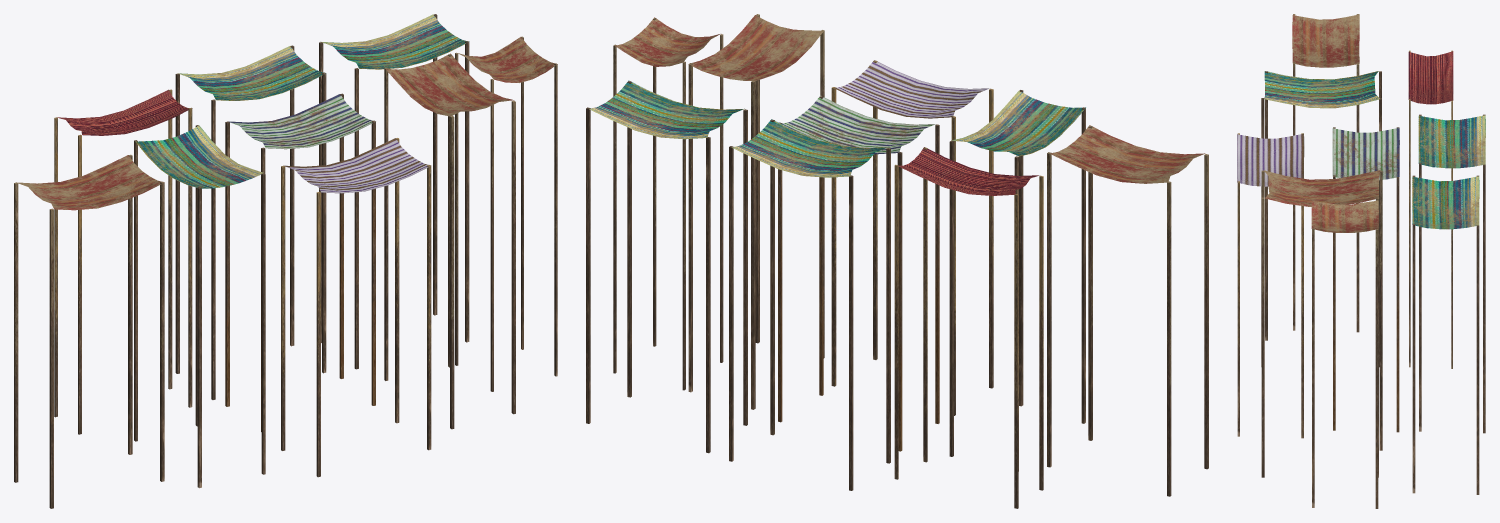
File: medina_cityscape_the_souk.gltf
The picture shows the model from 3 angles, left to right: view 1: azimuth 30°, elevation 25°; view 2: azimuth 150°, elevation 25°; view 3: azimuth 270°, elevation 25°; orthographic projection. The views are drawn at different scales.
Parts seen in each view (by area): view 1: medina_cityscape_the_souk; view 2: medina_cityscape_the_souk; view 3: medina_cityscape_the_souk.
Boxes of the visible parts, box(x1,y1,x2,y2) form: medina_cityscape_the_souk: box(14, 14, 557, 508); medina_cityscape_the_souk: box(586, 14, 1208, 508); medina_cityscape_the_souk: box(1237, 14, 1485, 508).
Size of the model in its own units: 12.79 by 7.4 by 5.93.
5 materials, 5 textured.
